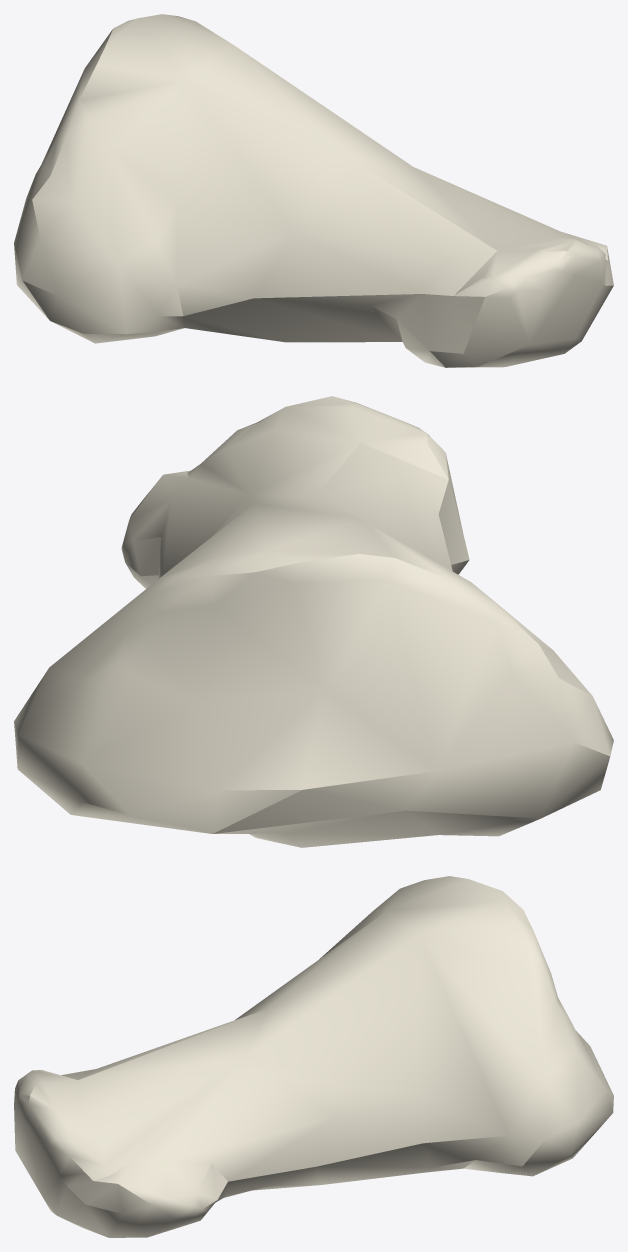
Rendered from fma32651_fj3182.glb.
3 views of the same model, one above another, from view 1: azimuth 30°, elevation 25°; view 2: azimuth 150°, elevation 25°; view 3: azimuth 270°, elevation 25° (orthographic). The views are drawn at different scales.
Parts seen in each view (by area): view 1: FMA32651_FJ3182; view 2: FMA32651_FJ3182; view 3: FMA32651_FJ3182.
Boxes of the visible parts, box(x1,y1,x2,y2) form: FMA32651_FJ3182: box(14, 14, 613, 367); FMA32651_FJ3182: box(14, 396, 613, 847); FMA32651_FJ3182: box(14, 876, 613, 1237).
Bounding box in the file's own units: 0.0226 × 0.011 × 0.0252.
